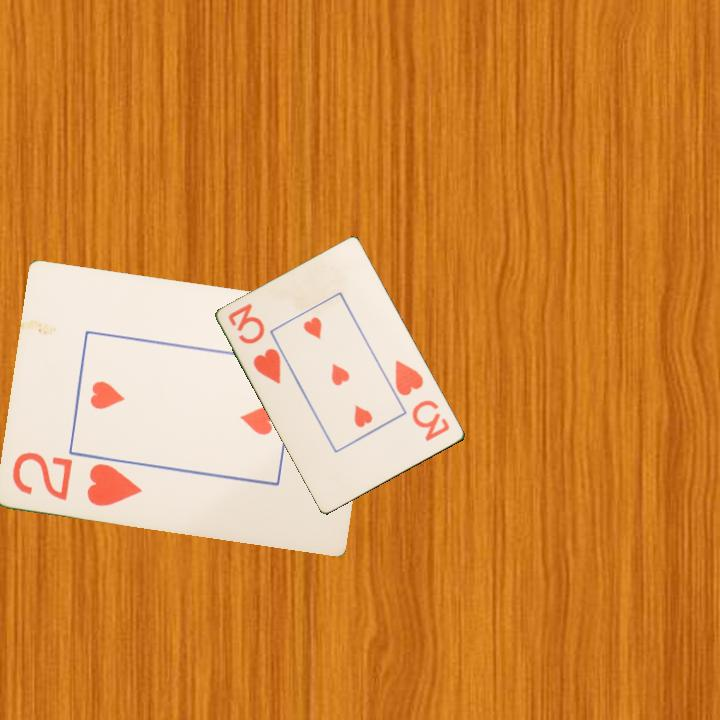2h: (9, 448, 145, 509)
3h: (392, 356, 453, 444), (225, 300, 284, 387)
